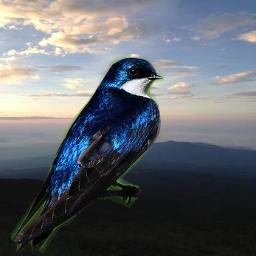Swallow: (11, 57, 164, 253)
